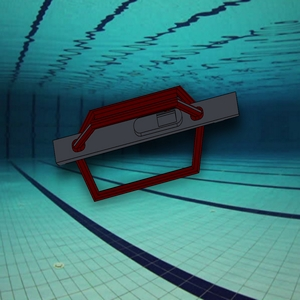submarine: (47, 74, 245, 207)
